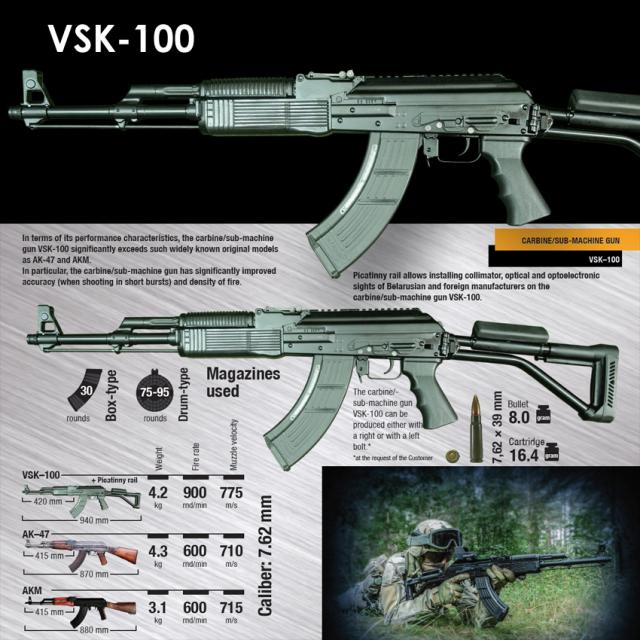Rifle: (10, 70, 640, 280), (26, 306, 620, 471), (406, 547, 612, 624), (22, 486, 141, 519), (27, 539, 138, 573), (25, 597, 136, 629)
